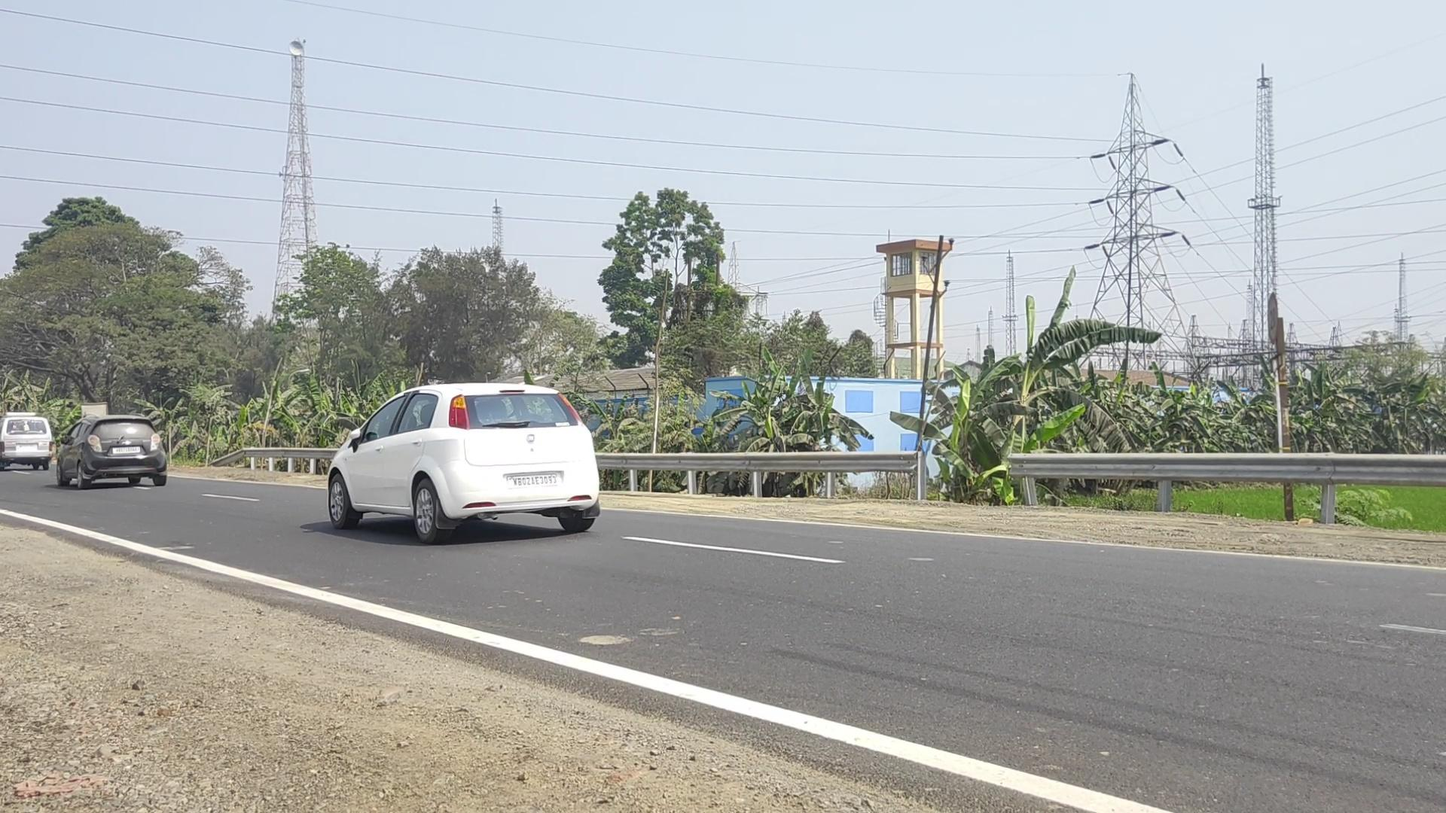car: (328, 382, 600, 545), (56, 413, 168, 490)
van: (1, 411, 53, 472)
